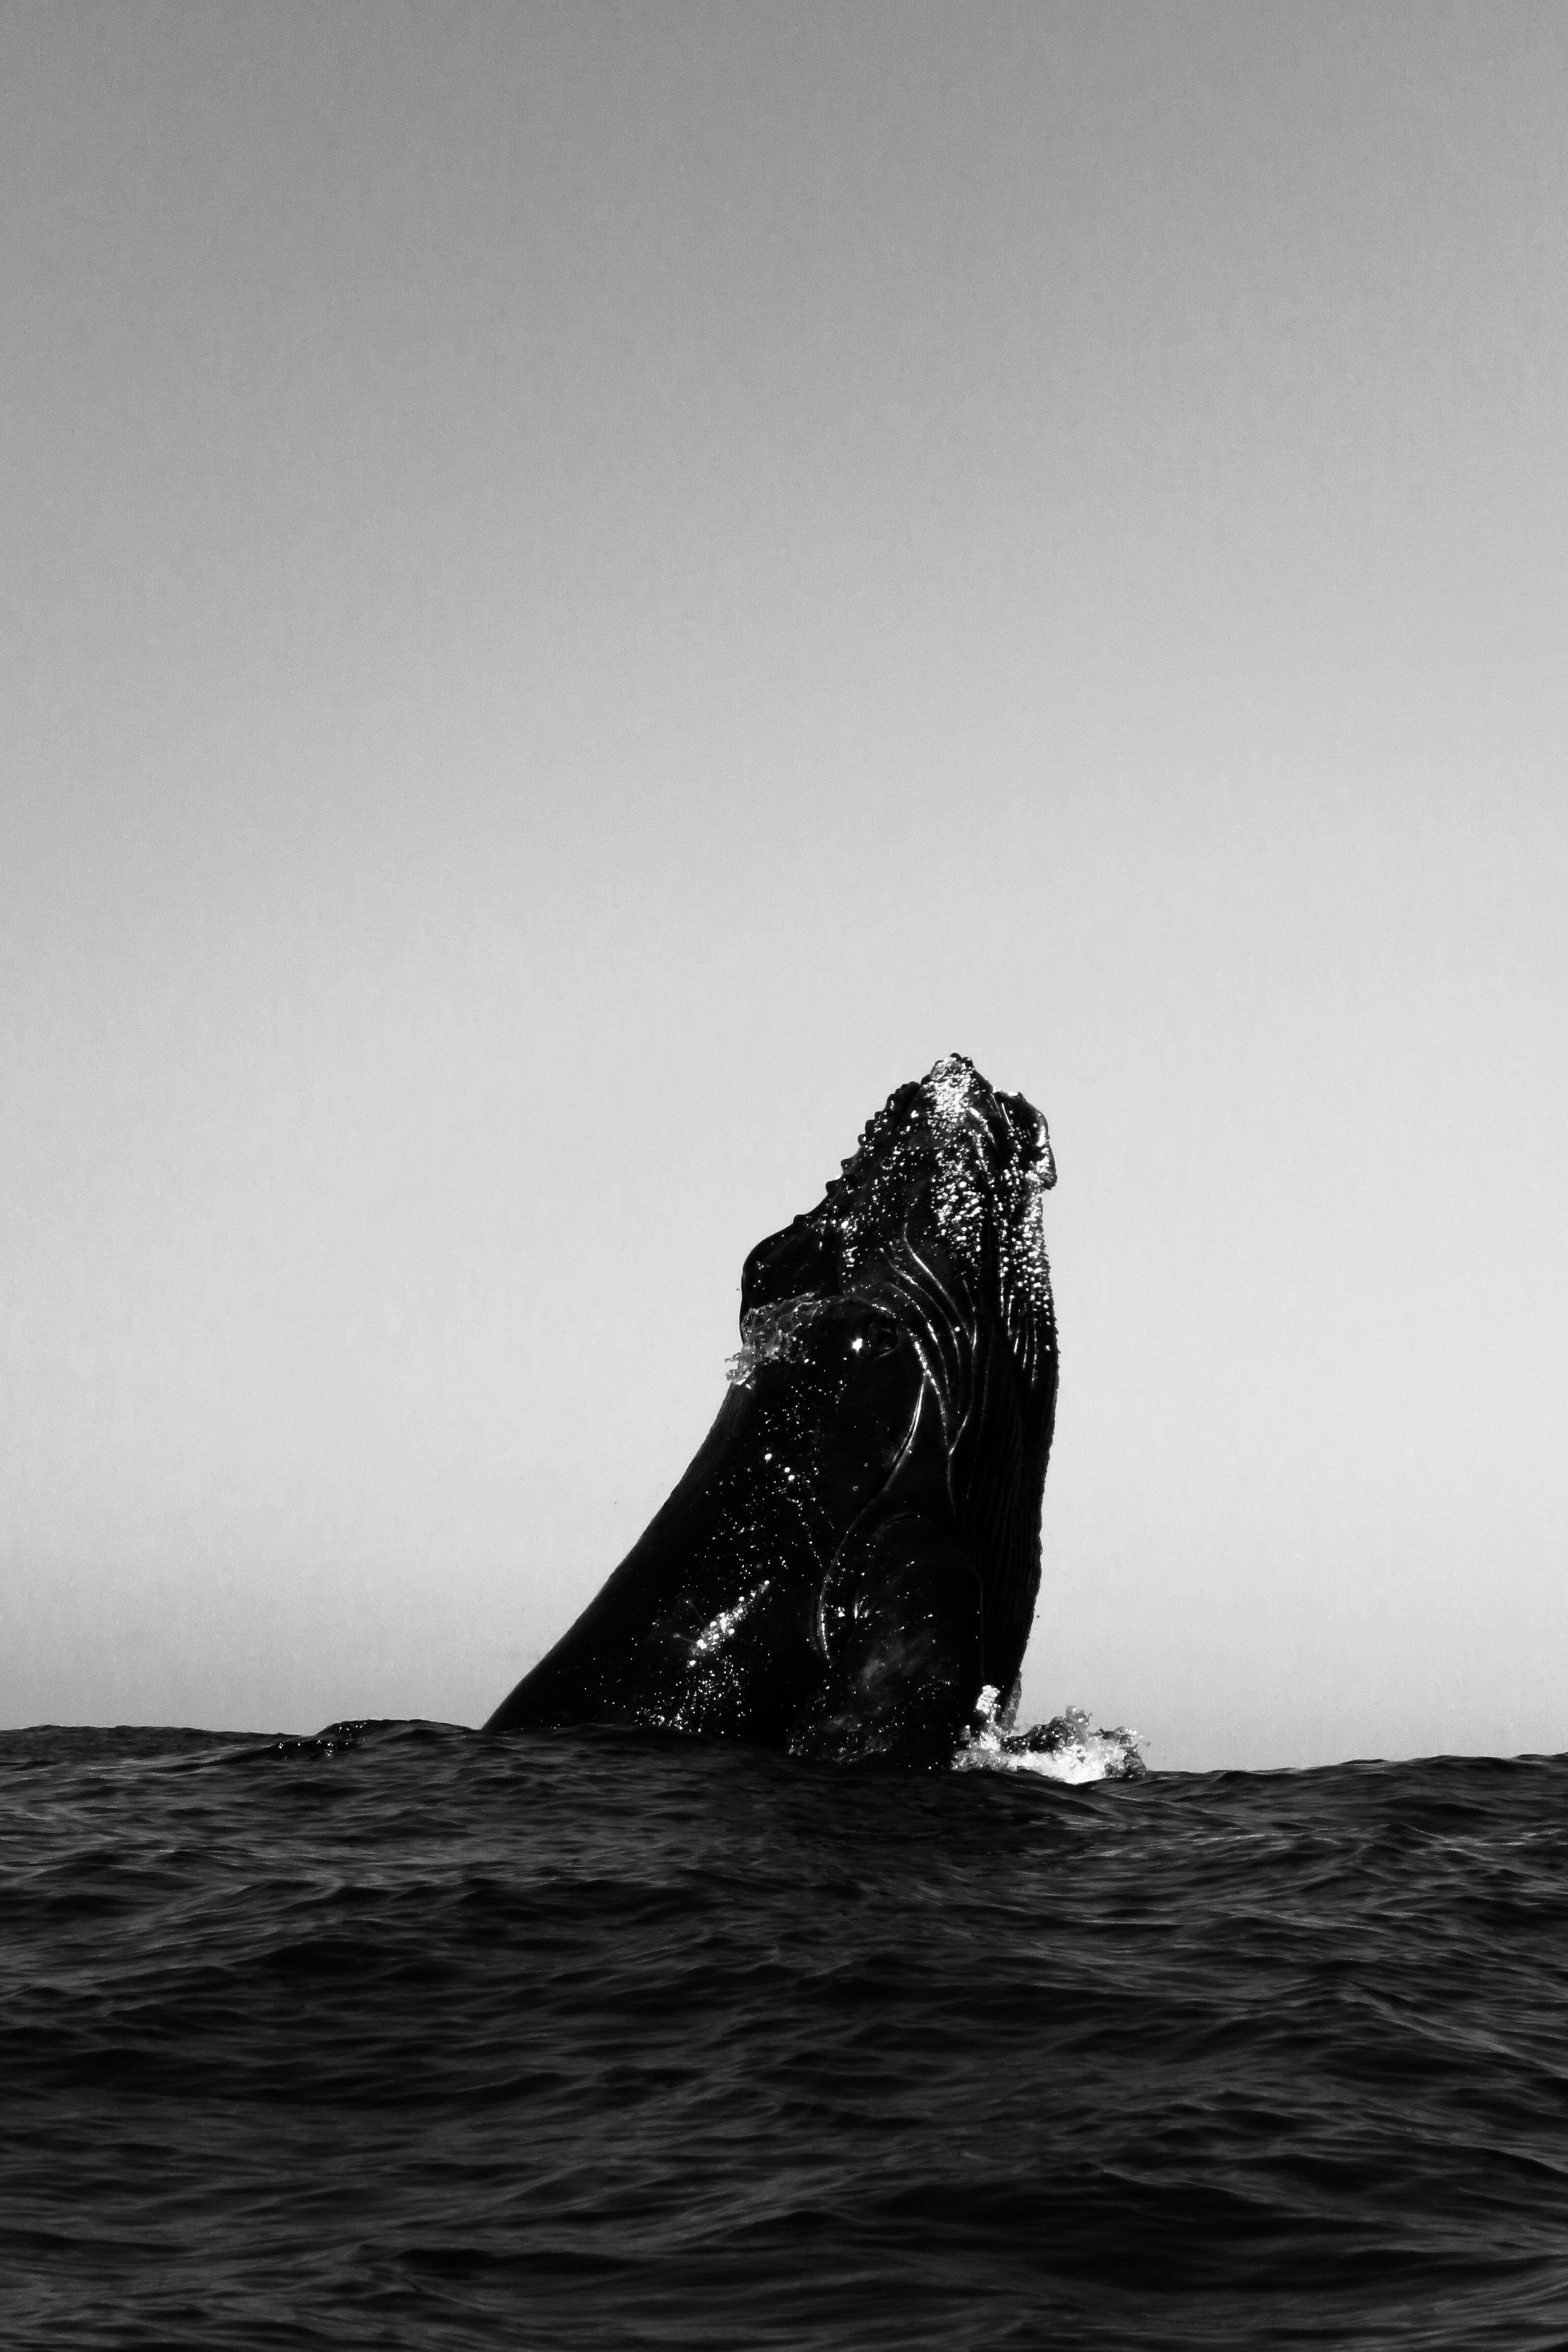whale: (478, 1052, 1076, 1771)
